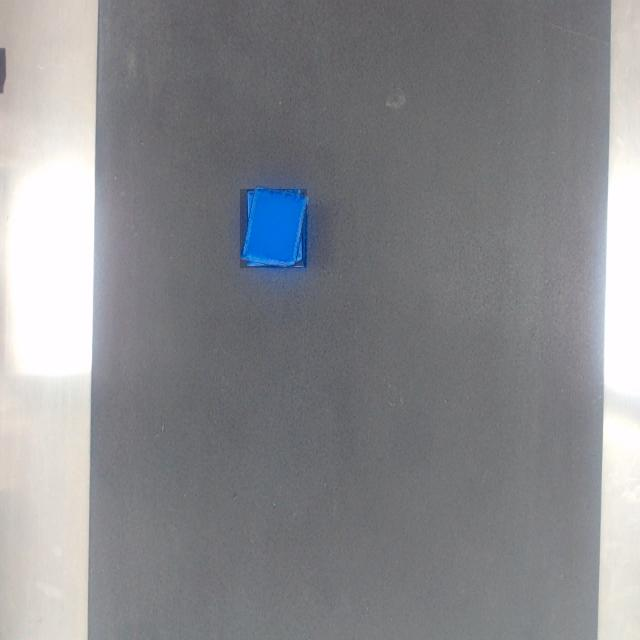Azul: (241, 190, 307, 268)
